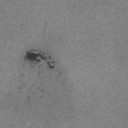iron sheet ash: (24, 49, 56, 70)
